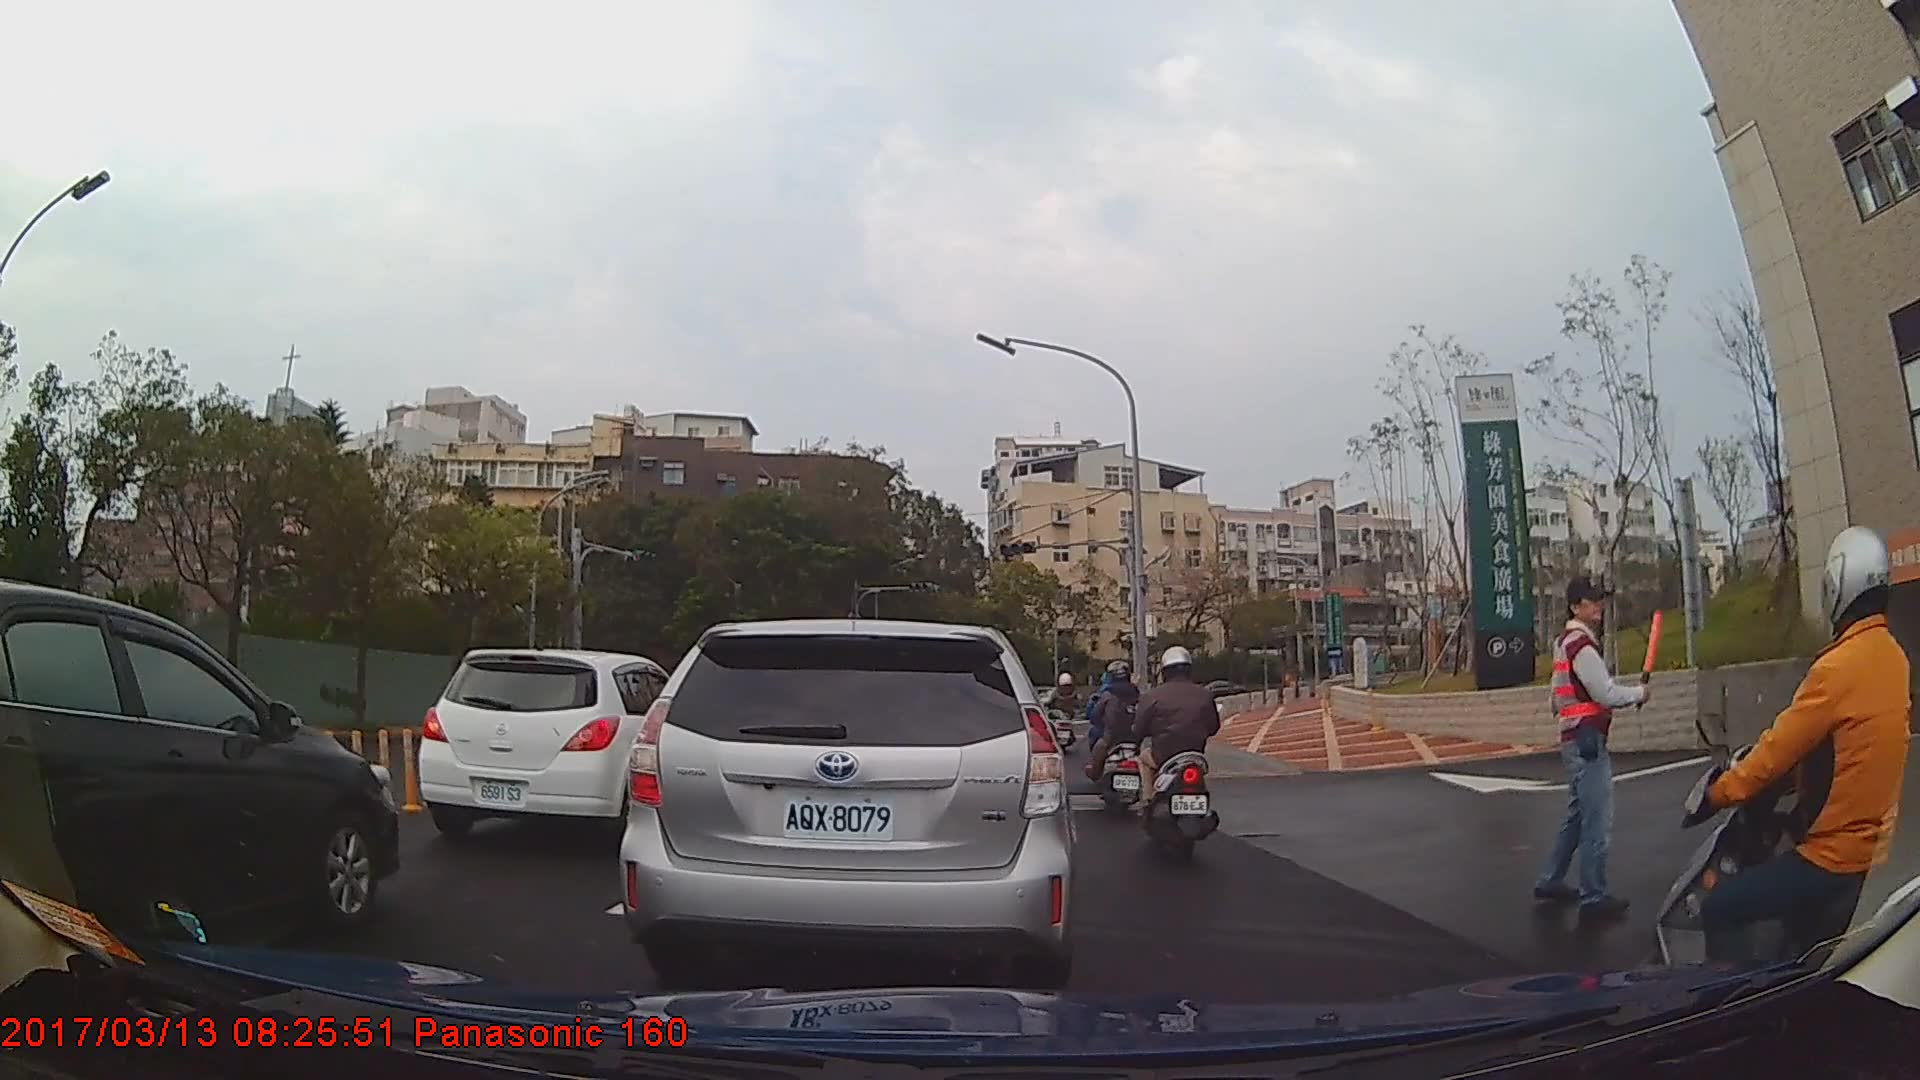pedestrian: (1540, 579, 1664, 911)
rider: (1641, 523, 1920, 1057), (1139, 644, 1220, 870), (1091, 660, 1148, 812), (1048, 671, 1081, 758)
vehicle: (620, 619, 1070, 984), (0, 580, 401, 961), (416, 649, 711, 844)
